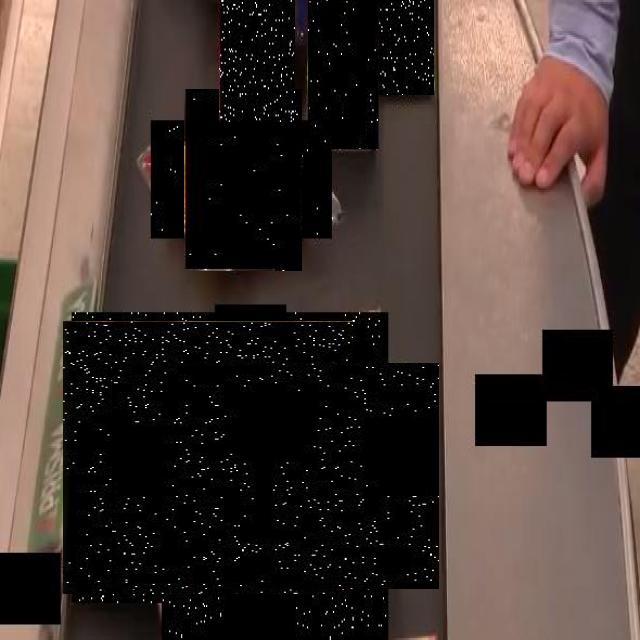food-box: (67, 316, 348, 598), (136, 338, 414, 614), (168, 105, 318, 256)
utility-box: (308, 0, 378, 149), (219, 0, 295, 122), (377, 0, 434, 95)
